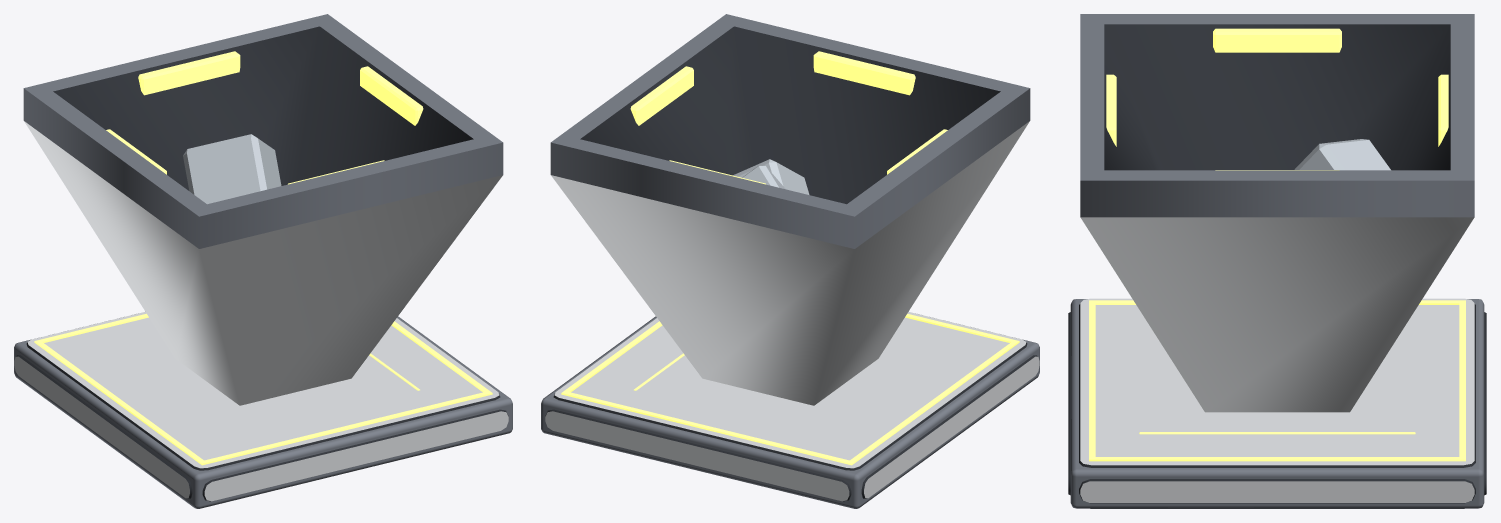
File: R4X_SalvageOptimizer.fbx
The picture shows the model from 3 angles, left to right: view 1: azimuth 30°, elevation 25°; view 2: azimuth 150°, elevation 25°; view 3: azimuth 270°, elevation 25°; orthographic projection. The views are drawn at different scales.
Visible parts, largest first — view 1: R4X_SalvageOptimizer_Body; view 2: R4X_SalvageOptimizer_Body; view 3: R4X_SalvageOptimizer_Body.
Boxes of the visible parts, left/top/right/bottom form: R4X_SalvageOptimizer_Body: left=14, top=14, right=512, bottom=508; R4X_SalvageOptimizer_Body: left=541, top=14, right=1039, bottom=508; R4X_SalvageOptimizer_Body: left=1068, top=14, right=1486, bottom=508.
Size of the model in its own units: 0.52 by 0.45 by 0.52.
